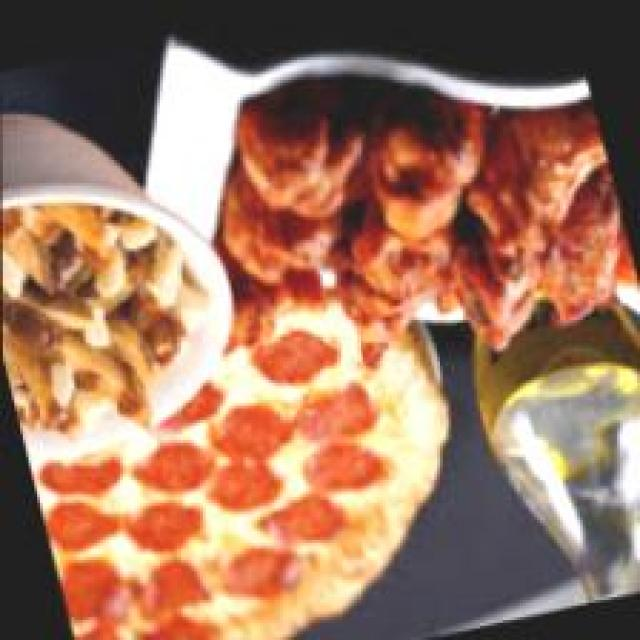Chicken Wings: (194, 18, 640, 416)
